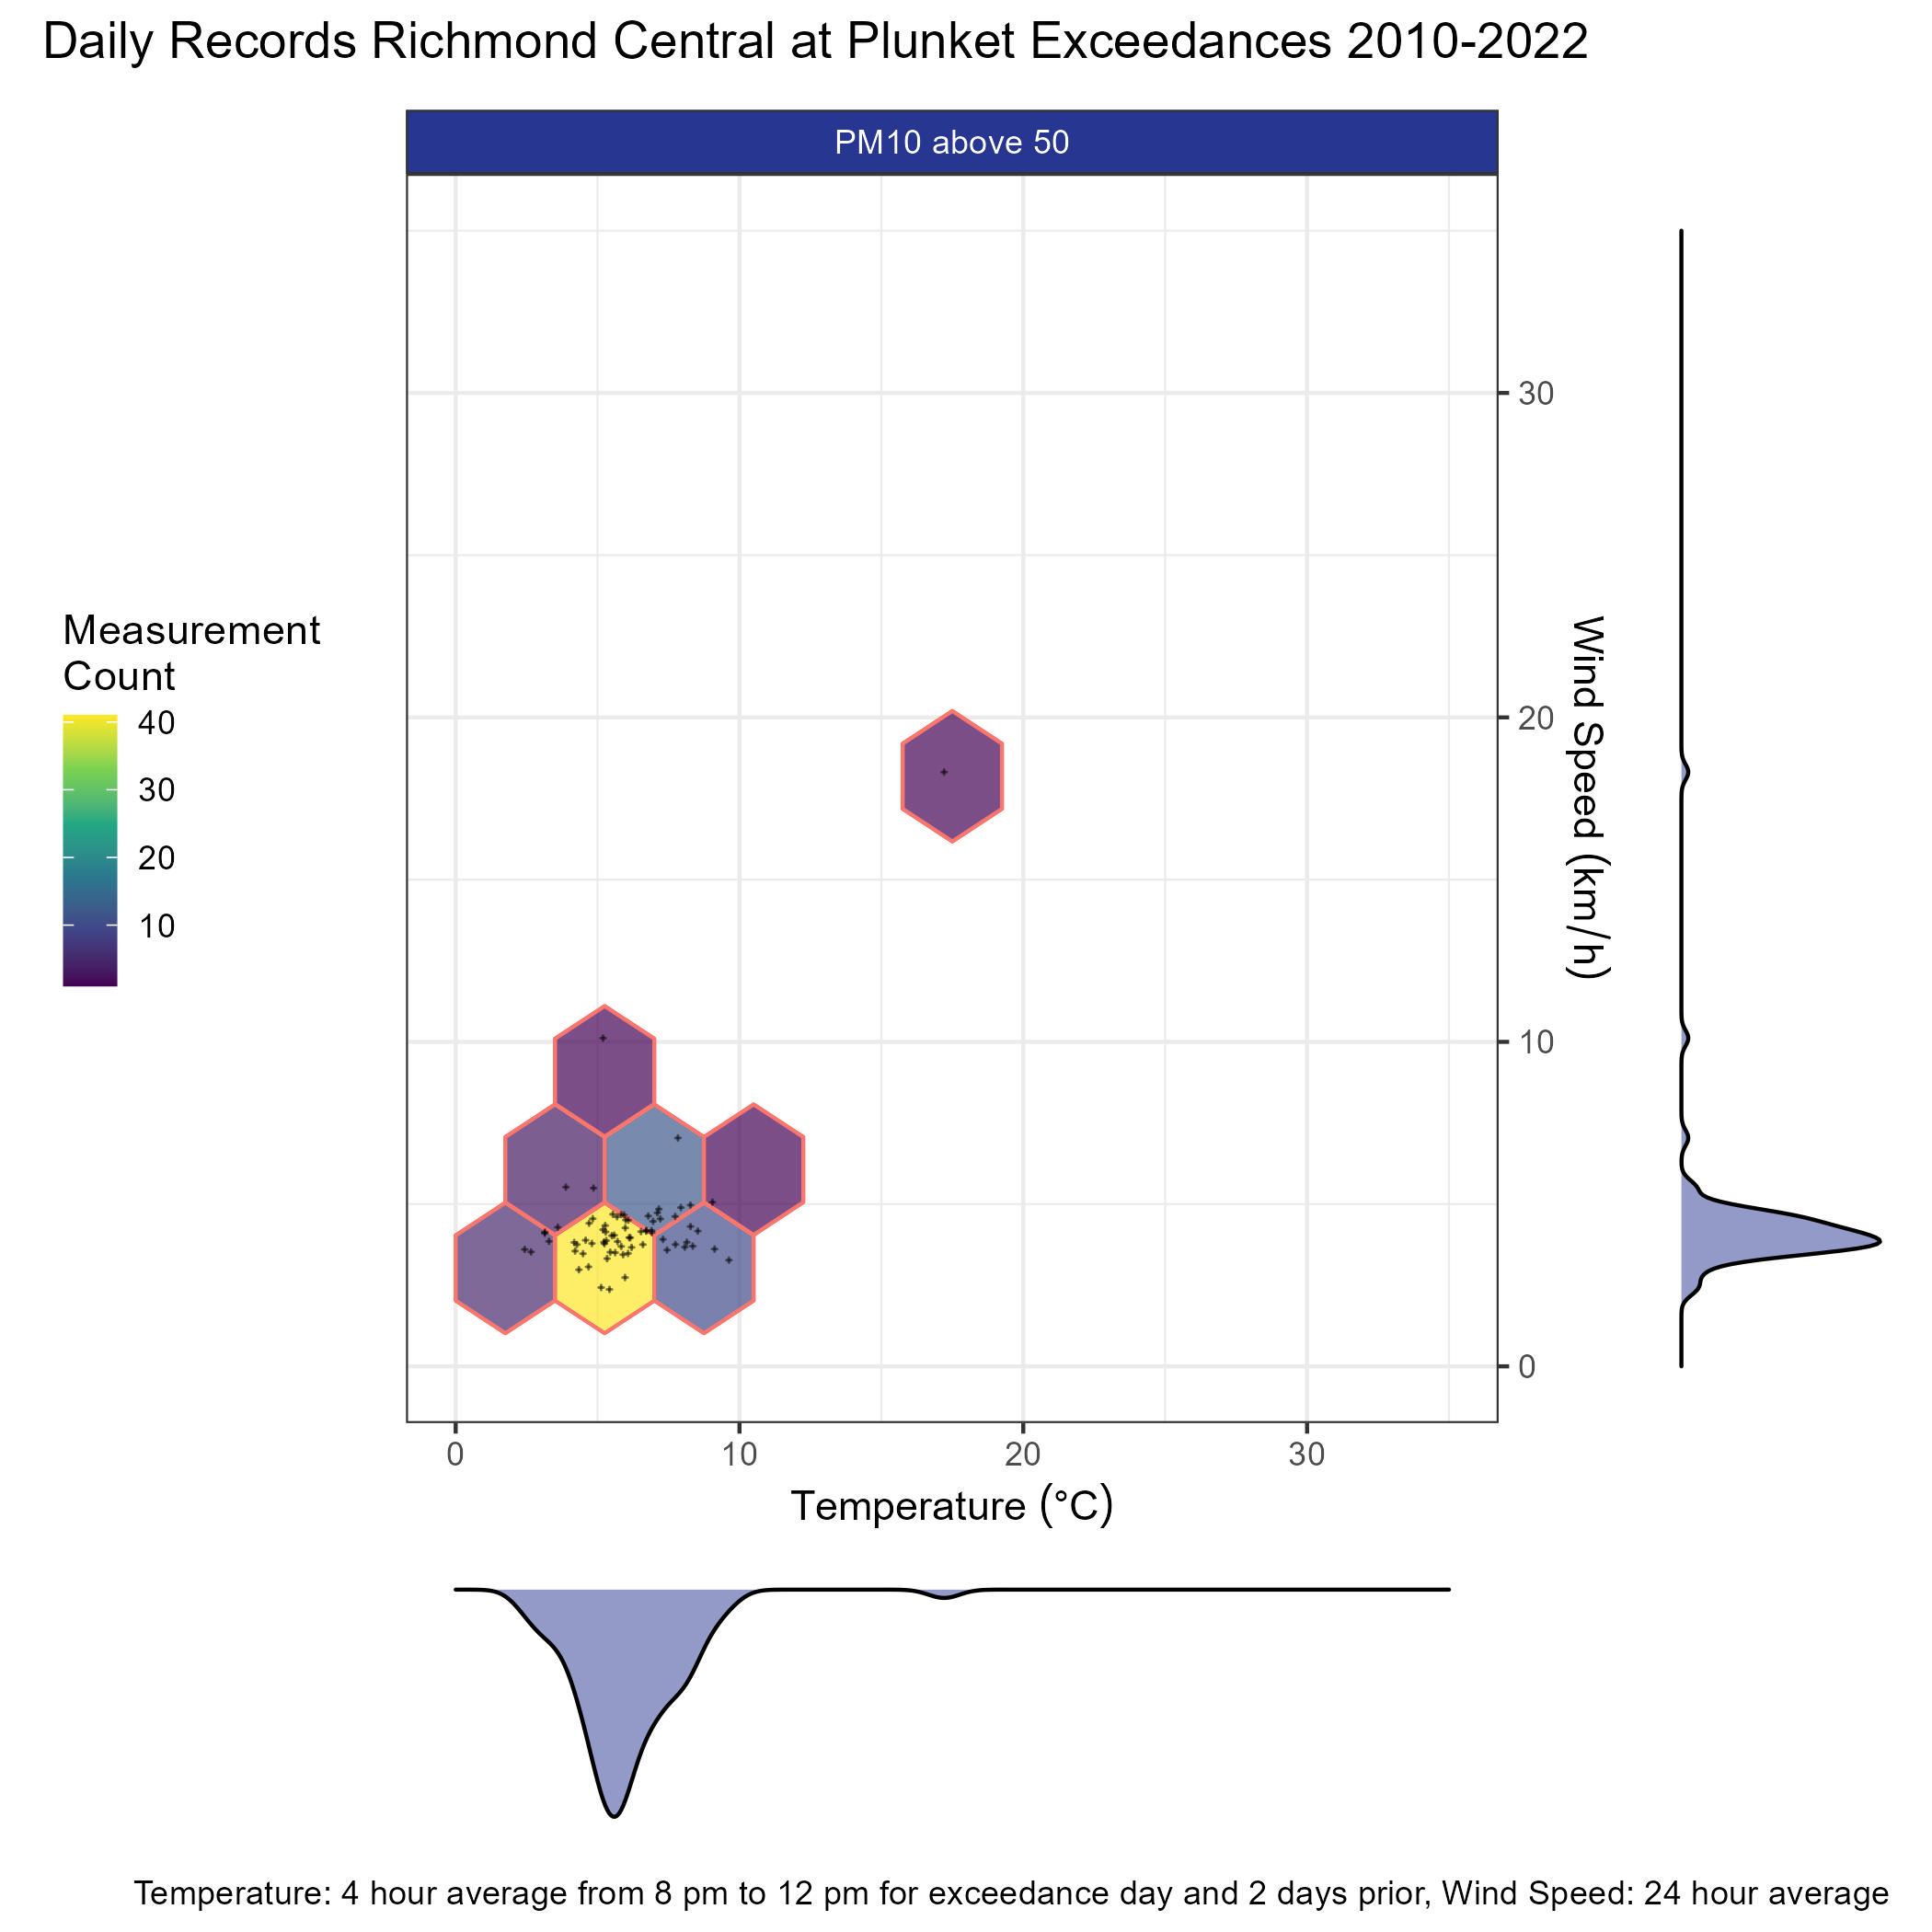

Layout of this report page (visuals, bound fields, positions):
{"tool":"powerbi","page":{"name":"Page 1","canvas":[1280,720],"ordinal":0},"visuals":[{"type":"scriptVisual","fields":{"Values":["example_wind_data.dir","example_wind_data.spd"]},"box":[452,0,639.6,480.6],"z":0},{"type":"slicer","fields":{"Values":["example_wind_data.nzst"]},"box":[0,0,452.3,480.5],"z":1}]}

Visuals, with their boxes on the page's 1280x720 design canvas (x1, y1, x2, y2). These are canvas units, not pixel positions in the 1932x1932 screenshot, which may show the page scaled, cropped or inside an application window:
scriptVisual - example_wind_data.dir x example_wind_data.spd: 452 0 1092 481
slicer - example_wind_data.nzst: 0 0 452 480
